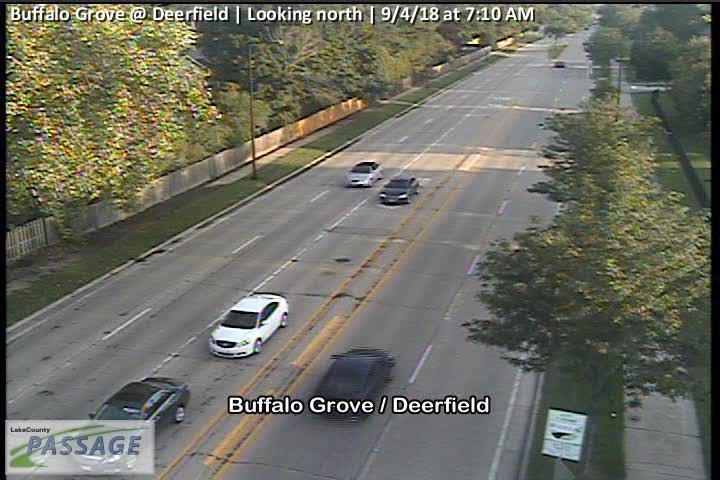Sedan: (78, 376, 192, 453), (207, 294, 288, 358), (378, 176, 419, 205), (344, 161, 383, 190), (554, 60, 564, 68)
